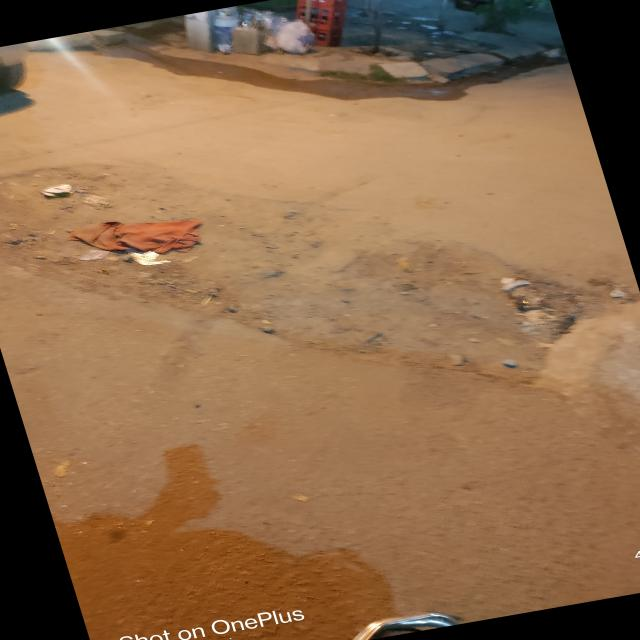potholes: (0, 108, 579, 418)
